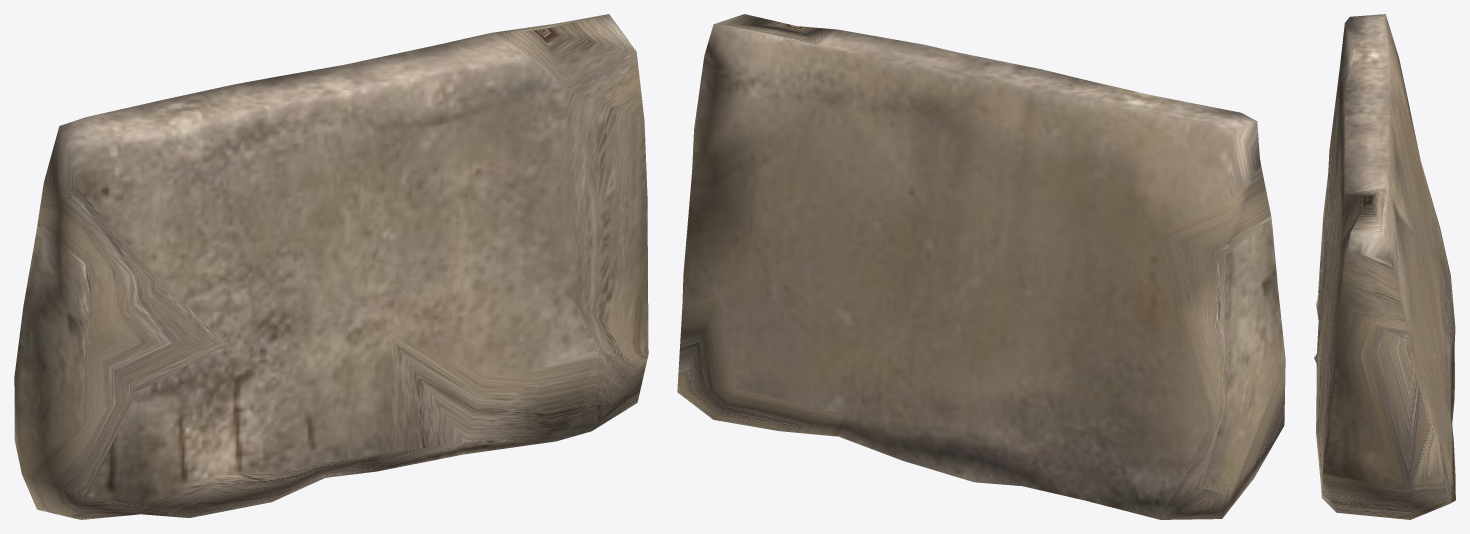
File: concrete_road_barrier_02_lo.glb
3 renders of one model, left to right at view 1: azimuth 30°, elevation 25°; view 2: azimuth 150°, elevation 25°; view 3: azimuth 270°, elevation 25°, orthographic. The views are drawn at different scales.
Parts seen in each view (by area): view 1: concrete_road_barrier_02; view 2: concrete_road_barrier_02; view 3: concrete_road_barrier_02.
Boxes of the visible parts, x1=… form: concrete_road_barrier_02: x1=14, y1=14, x2=648, y2=519; concrete_road_barrier_02: x1=677, y1=14, x2=1285, y2=519; concrete_road_barrier_02: x1=1314, y1=14, x2=1455, y2=519.
Size of the model in its own units: 1.55 by 1.03 by 0.4324.
1 material, 1 textured.
